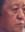without_mask: (1, 2, 25, 32)
